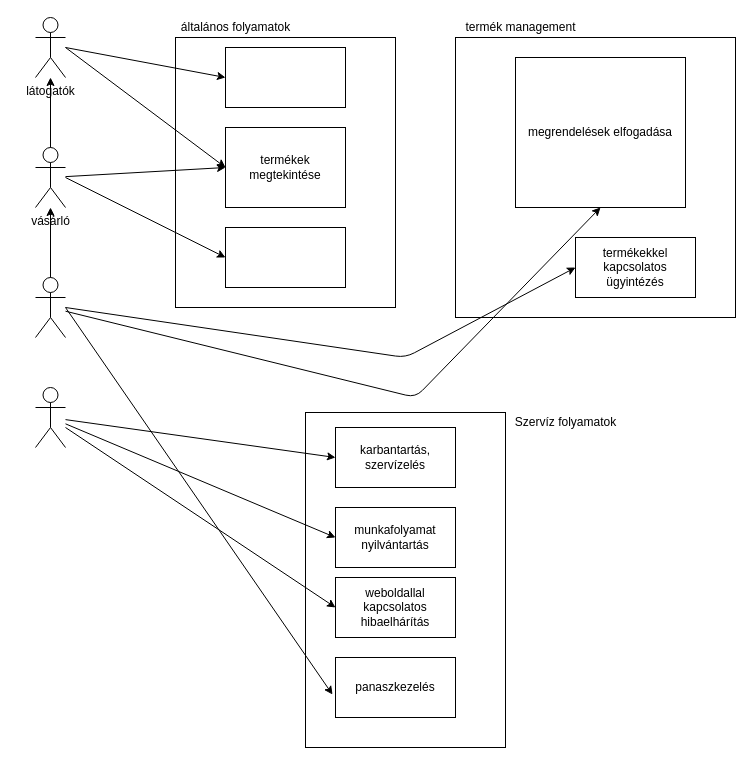
The diagram is 753 pixels wide and 765 high, and some of its shapes have lost their labels. The box of each missing label's shape, as (x1, y1, x2, y2) in pixels:
karbantartók: (34, 386, 66, 448)
manager: (34, 276, 66, 338)
regisztráció: (224, 46, 346, 108)
termékek vásárlása: (224, 226, 346, 288)
